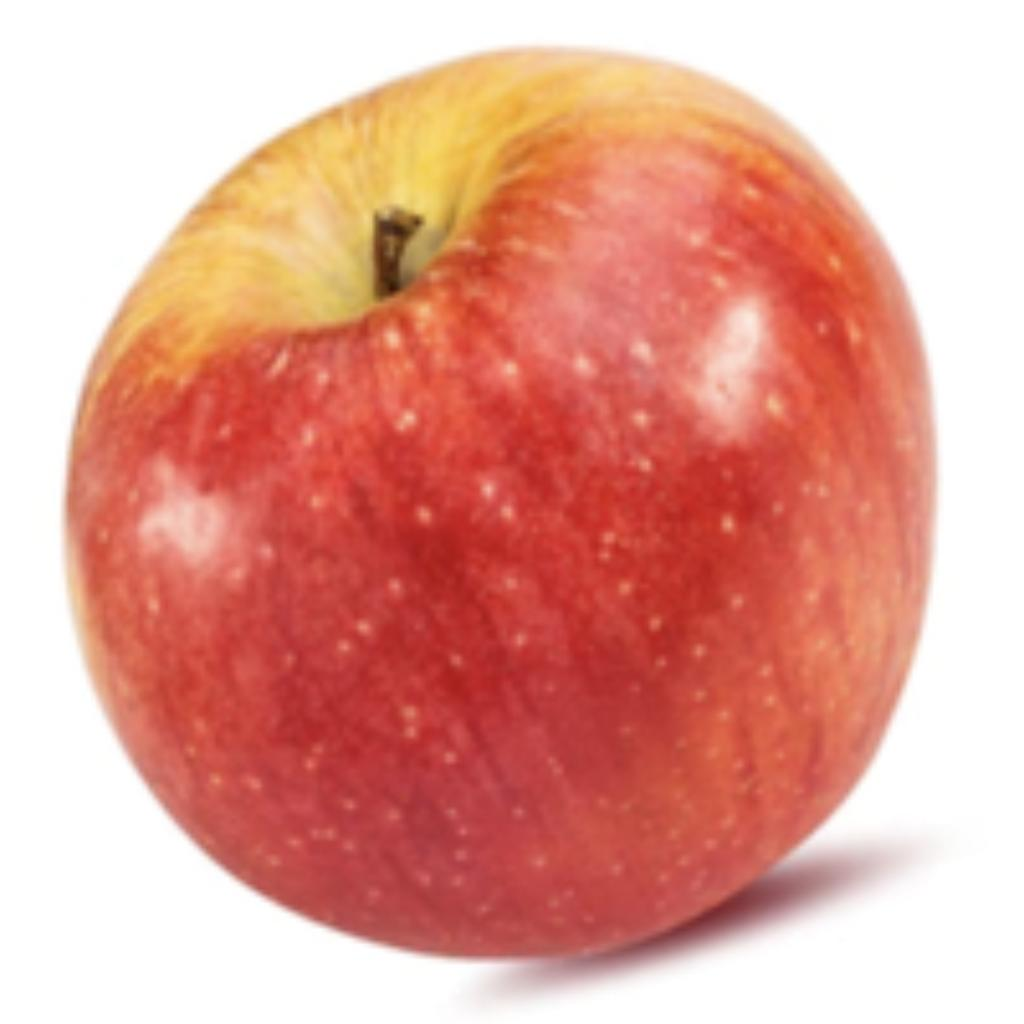apple: (51, 36, 968, 1014)
